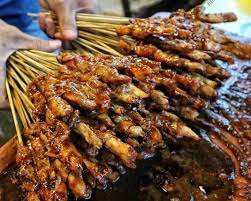sate: (2, 2, 249, 201)
